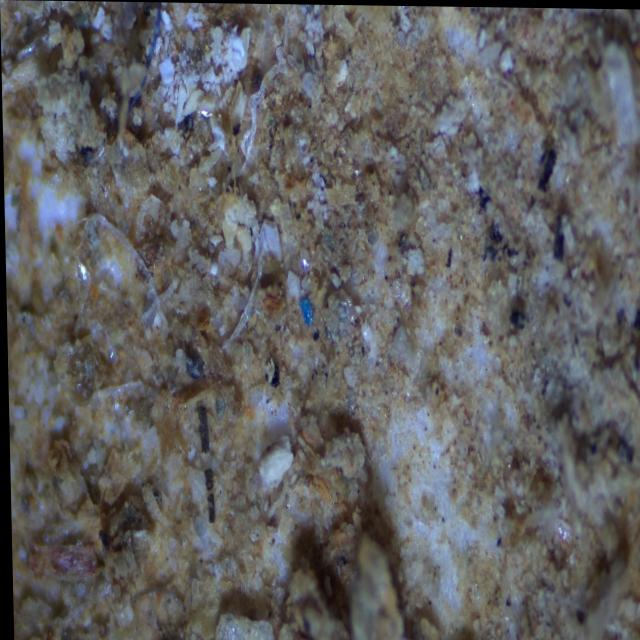microplastic: (129, 1, 166, 111), (293, 297, 317, 325)
